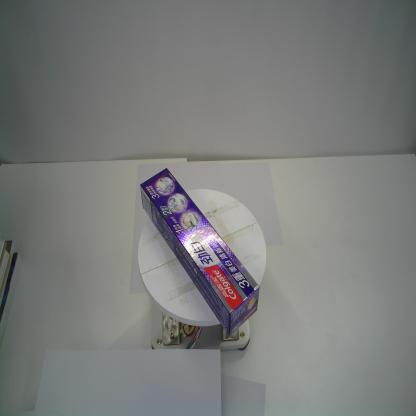Personal Hygiene: (140, 167, 260, 337)
